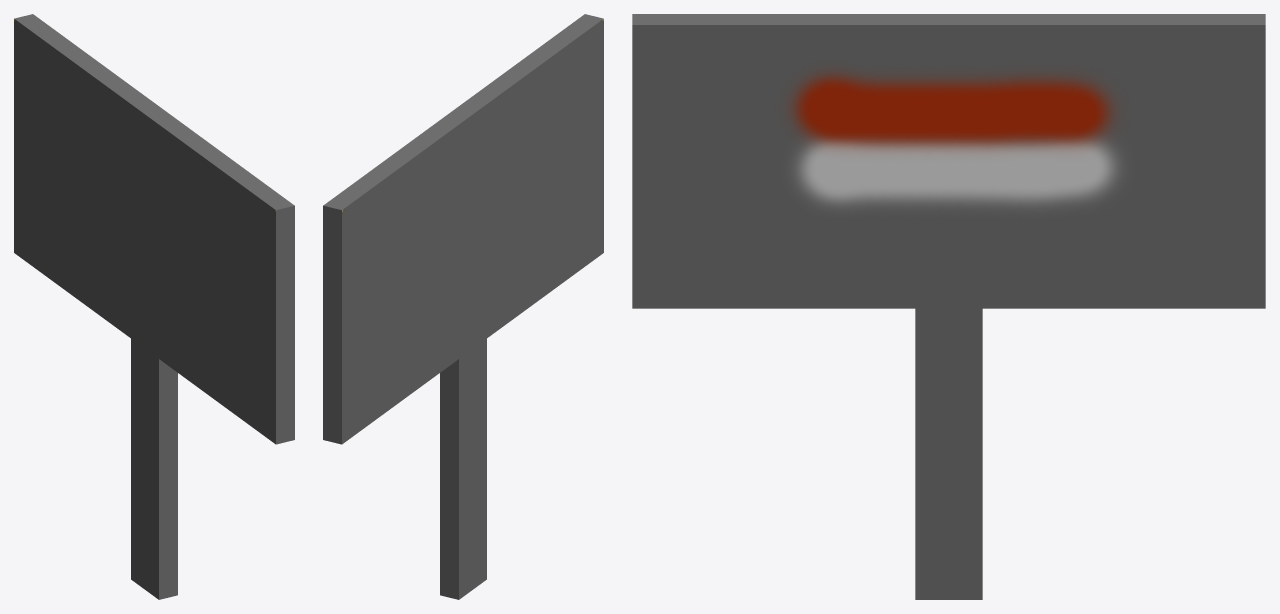
The model's file is Sign.fbx.
The picture shows the model from 3 angles, left to right: view 1: azimuth 30°, elevation 25°; view 2: azimuth 150°, elevation 25°; view 3: azimuth 270°, elevation 25°; orthographic projection. The views are drawn at different scales.
Visible parts, largest first — view 1: Cube; view 2: Cube; view 3: Cube.
Part boxes in pixels (<box>): Cube: <box>14,14,294,599</box>; Cube: <box>323,14,603,599</box>; Cube: <box>632,14,1265,599</box>.
Size of the model in its own units: 8.32 by 200 by 200.
Materials: 1 (1 with a texture image).
